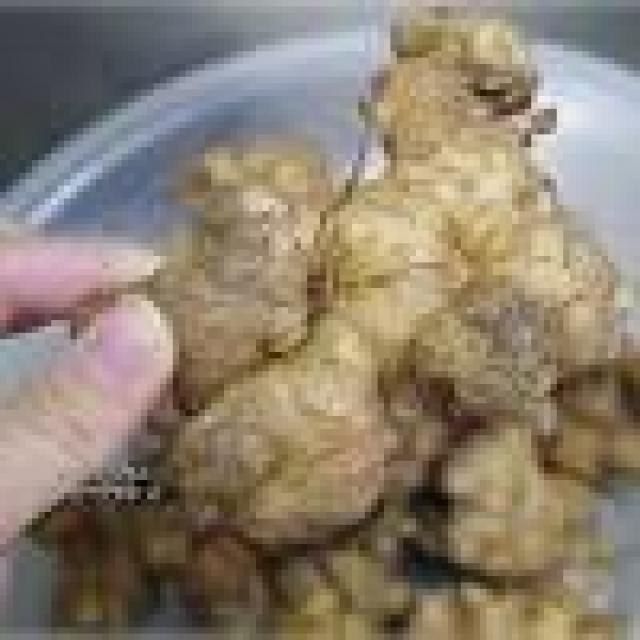ginger: (157, 62, 636, 546)
